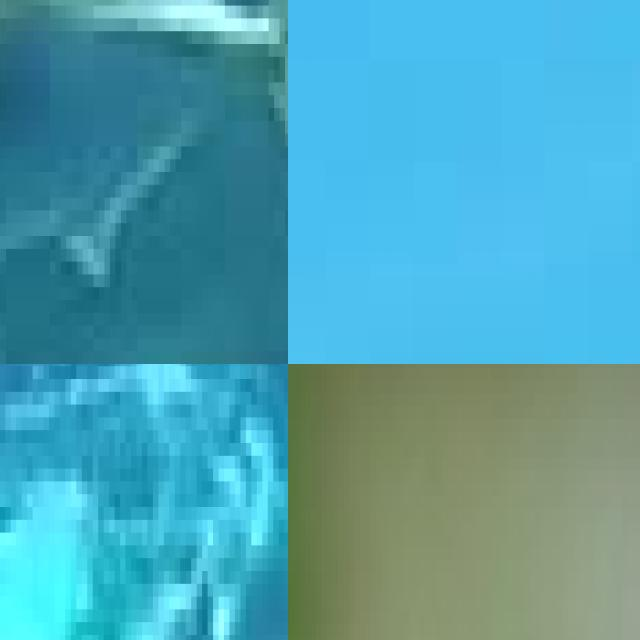fish: (0, 0, 288, 364), (288, 364, 640, 496)
